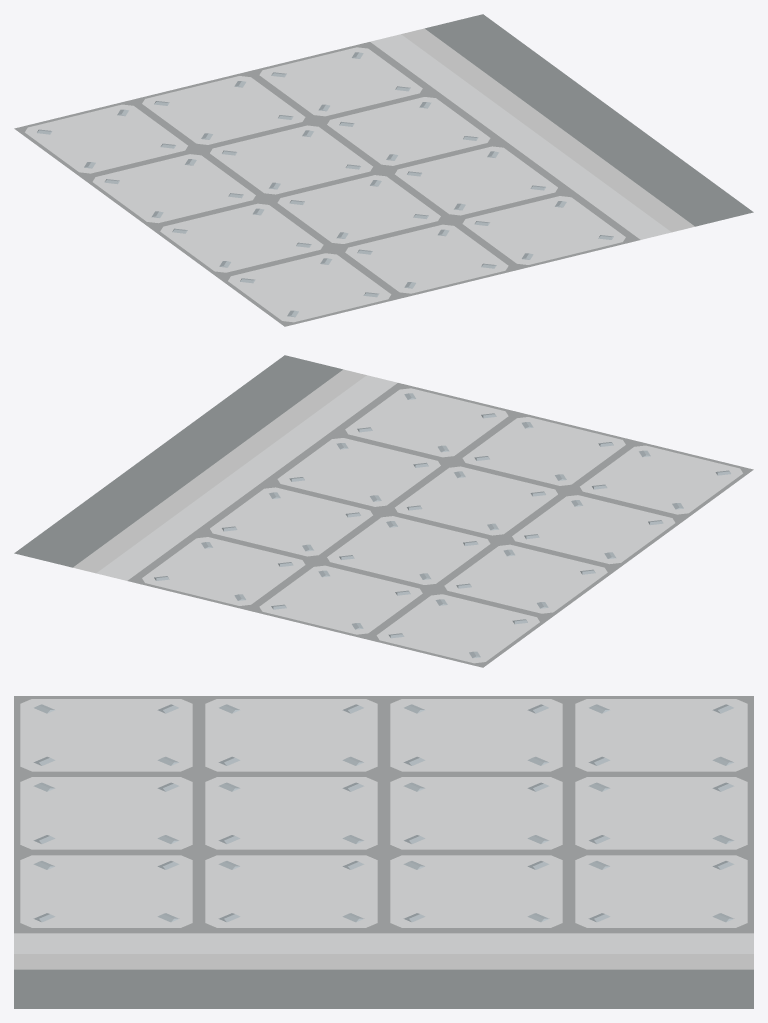
The model's file is Floor_type_A_007.fbx.
3 renders of one model, top to bottom at view 1: azimuth 30°, elevation 25°; view 2: azimuth 150°, elevation 25°; view 3: azimuth 270°, elevation 25°, orthographic. The views are drawn at different scales.
Visible parts, largest first — view 1: Floor_type_A_007; view 2: Floor_type_A_007; view 3: Floor_type_A_007.
Boxes of the visible parts, left/top/right/bottom form: Floor_type_A_007: left=14, top=14, right=753, bottom=326; Floor_type_A_007: left=14, top=355, right=753, bottom=667; Floor_type_A_007: left=14, top=696, right=753, bottom=1008.
Size of the model in its own units: 400 by 400 by 0.8.
